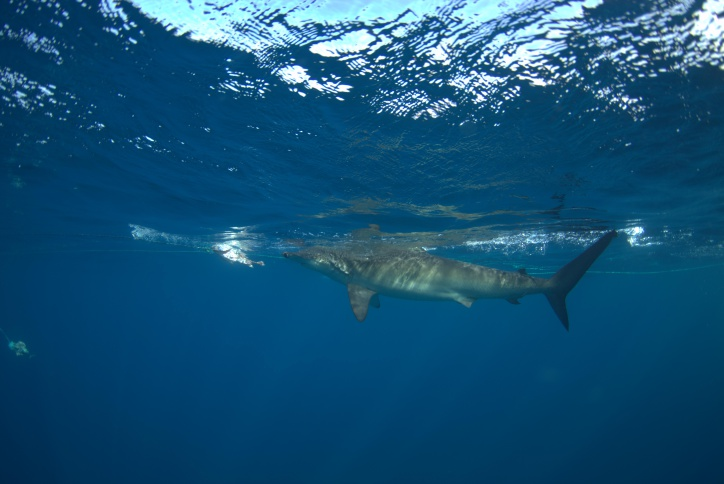Hammer: (270, 185, 614, 346), (333, 227, 537, 368)
